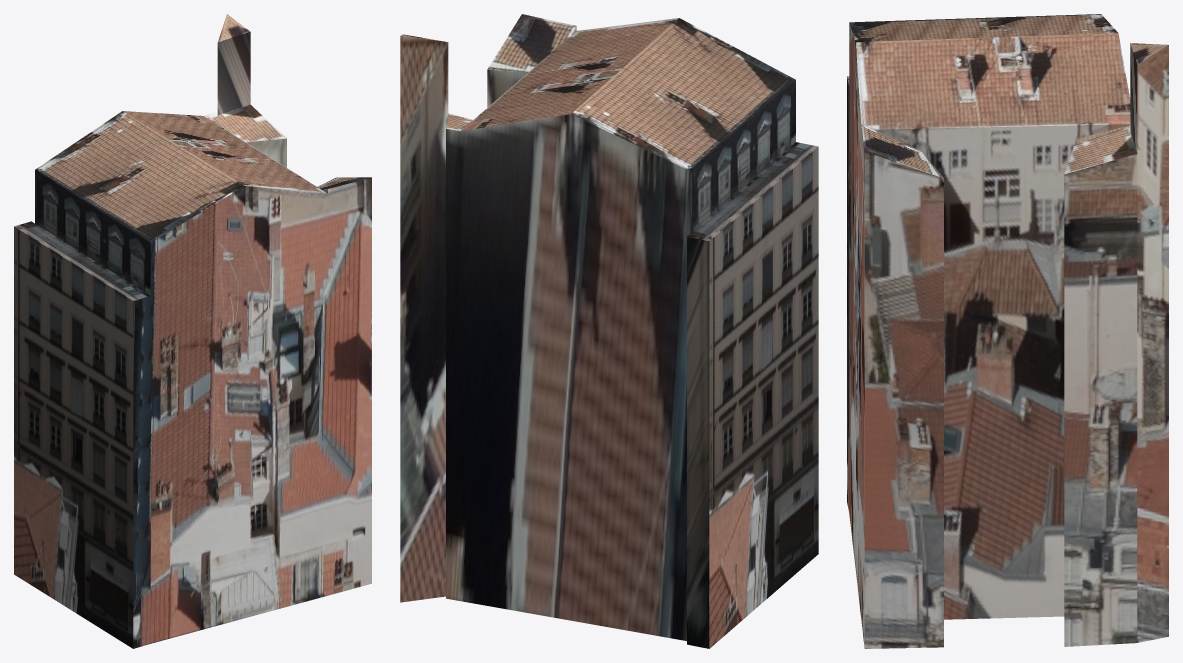
3 renders of one model, left to right at view 1: azimuth 30°, elevation 25°; view 2: azimuth 150°, elevation 25°; view 3: azimuth 270°, elevation 25°, orthographic. The views are drawn at different scales.
Visible parts, largest first — view 1: Z_UP; view 2: Z_UP; view 3: Z_UP.
Part boxes in pixels (x1,y1,x2,y2): Z_UP: (14,14,371,648); Z_UP: (400,14,818,648); Z_UP: (847,14,1168,648).
Bounding box in the file's own units: 17.83 × 31.84 × 15.69.
2 materials, 1 textured.
